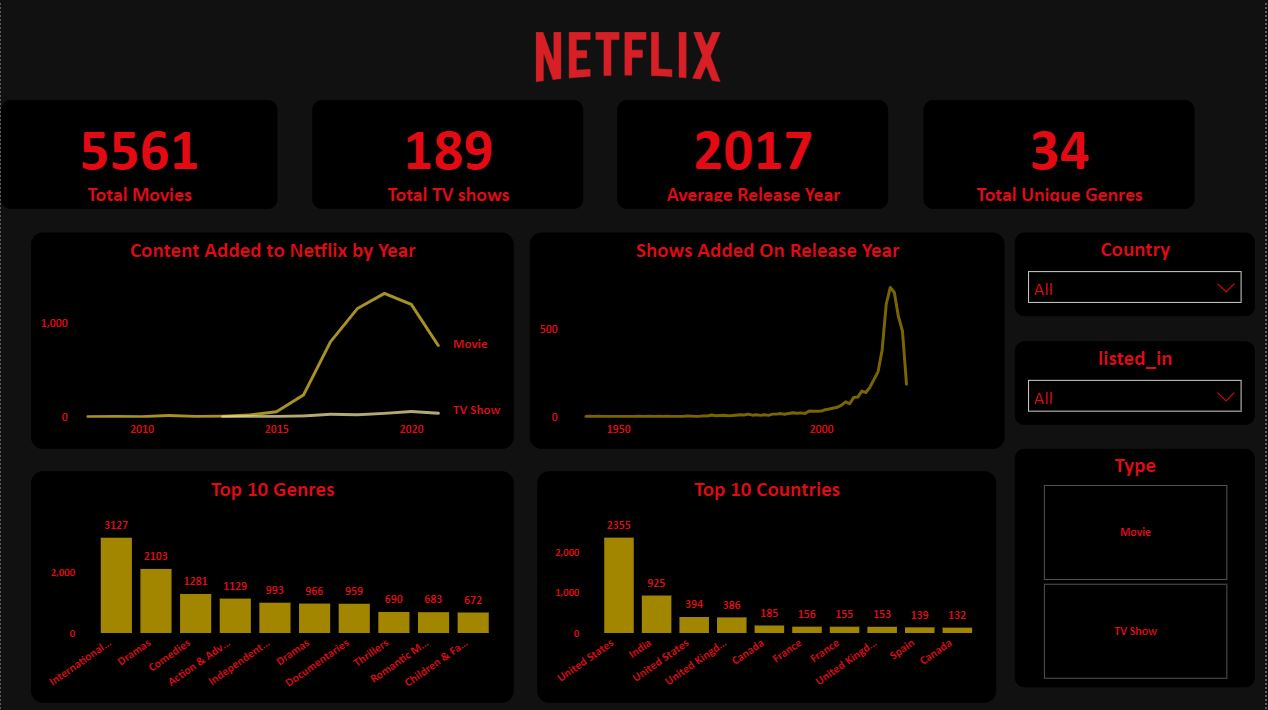

This screenshot's page, from the dashboard's own definition file:
{"tool":"powerbi","page":{"name":"Page 2","canvas":[1280,720],"ordinal":1},"visuals":[{"type":"image","box":[0,0,1269.6,278.5],"z":0},{"type":"card","fields":{"Values":["Count(netflix_titles.show_id)"]},"box":[0,101.3,279.7,110.1],"z":1000},{"type":"card","fields":{"Values":["Count(netflix_titles.show_id)"]},"box":[314.8,101.3,274.7,110.1],"z":2000},{"type":"lineChart","title":"Content Added to Netflix by Year","fields":{"Category":["netflix_titles.date_added.Variation.Date Hierarchy.Year"],"Y":["Count(netflix_titles.show_id)"],"Series":["netflix_titles.type"]},"box":[30.4,235.4,488.6,219],"z":3000},{"type":"columnChart","title":"Top 10 Genres","fields":{"Category":["netflix_titles.listed_in"],"Y":["CountNonNull(netflix_titles.show_id)"]},"box":[30.4,477.2,488.6,234.2],"z":4000},{"type":"columnChart","title":"Top 10 Countries","fields":{"Category":["netflix_titles.country"],"Y":["Count(netflix_titles.show_id)"]},"box":[543.4,477.2,464.6,234.2],"z":5000},{"type":"slicer","title":"Type","fields":{"Values":["netflix_titles.type"]},"box":[1026.6,454.4,243,241.8],"z":6000},{"type":"slicer","title":"listed_in","fields":{"Values":["netflix_titles.listed_in"]},"box":[1026.6,345.6,243,84.8],"z":7000},{"type":"slicer","title":"Country","fields":{"Values":["netflix_titles.country"]},"box":[1026.6,235.4,243,84.8],"z":8000},{"type":"areaChart","title":"Shows Added On  Release Year ","fields":{"Category":["netflix_titles.release_year"],"Y":["Count(netflix_titles.show_id)"]},"box":[535.1,235.4,481,219],"z":9000},{"type":"card","fields":{"Values":["Avg(netflix_titles.release_year)"]},"box":[624.5,101.3,274.7,110.1],"z":10000},{"type":"card","fields":{"Values":["Count(netflix_titles.listed_in)"]},"box":[934.2,101.3,274.7,110.1],"z":11000}]}

Visuals, with their boxes in screenshot pixels (x1, y1, x2, y2), scaled from the page's 1280x720 canvas onto the 1268x710 screenshot:
image: 0/0/1258/275
card - Count(netflix_titles.show_id): 0/100/277/208
card - Count(netflix_titles.show_id): 312/100/584/208
"Content Added to Netflix by Year" lineChart: 30/232/514/448
"Top 10 Genres" columnChart: 30/471/514/702
"Top 10 Countries" columnChart: 538/471/999/702
"Type" slicer: 1017/448/1258/687
"listed_in" slicer: 1017/341/1258/424
"Country" slicer: 1017/232/1258/316
"Shows Added On  Release Year " areaChart: 530/232/1007/448
card - Avg(netflix_titles.release_year): 619/100/891/208
card - Count(netflix_titles.listed_in): 925/100/1198/208
